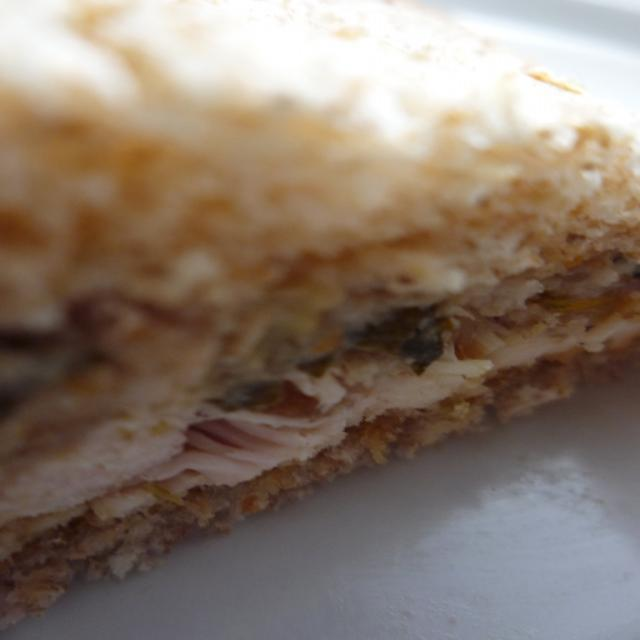Sandwich: (0, 0, 639, 630)
